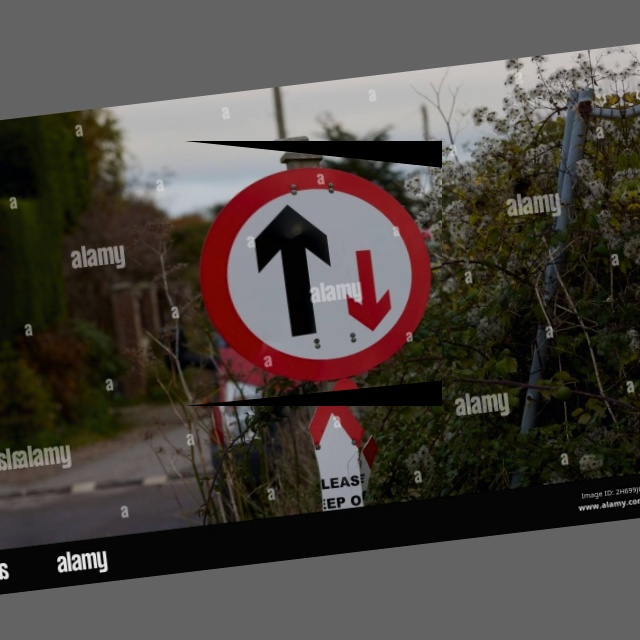Priority_for_Oncoming_Traffic: (184, 141, 442, 406)
